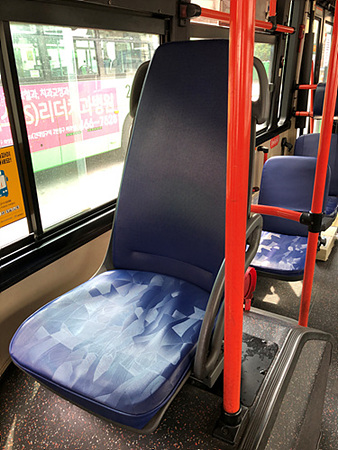seat: (17, 43, 225, 419)
